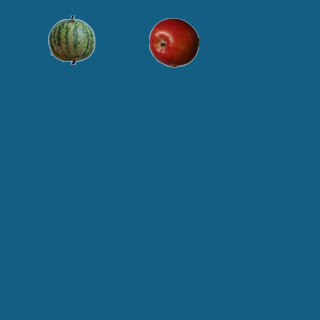Apple Braeburn: (148, 17, 198, 67)
Watermelon: (46, 14, 96, 64)
